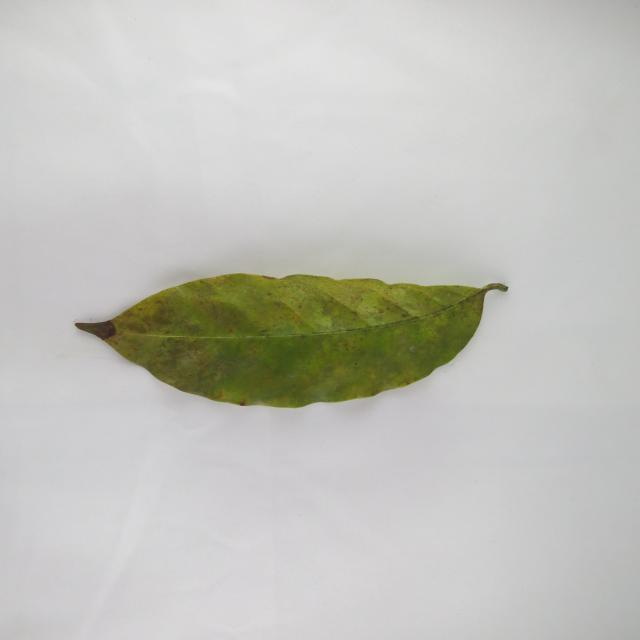DeficienciaNutricional-Potasio: (77, 274, 507, 408)
